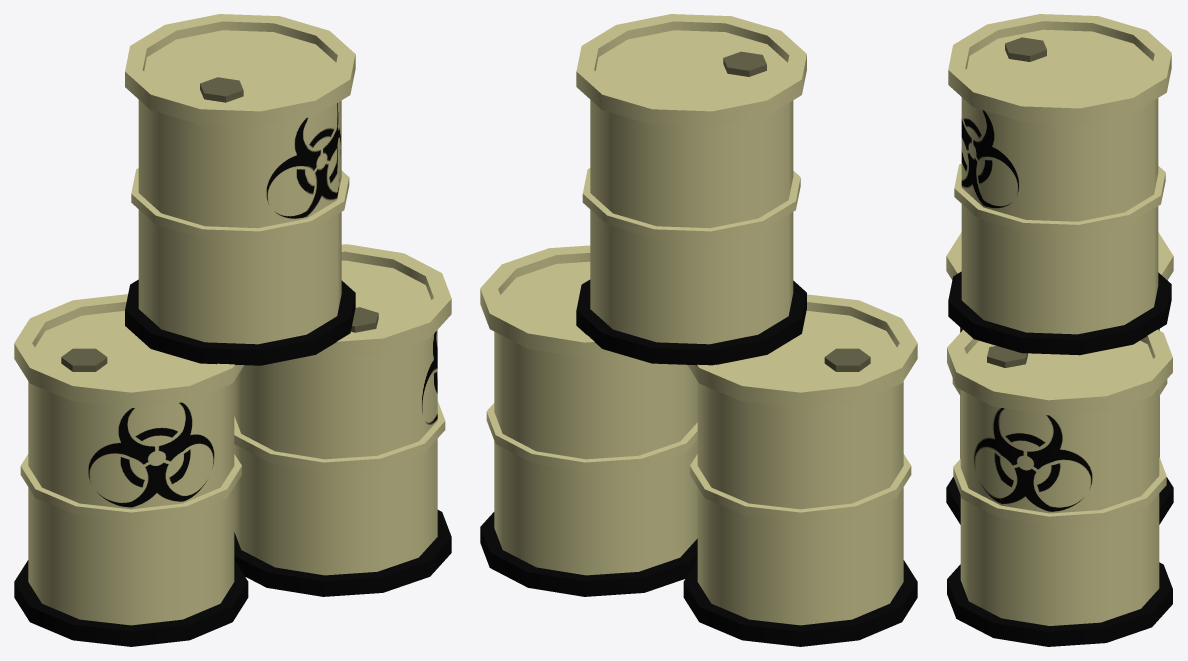
Rendered from barells_3.fbx.
The picture shows the model from 3 angles, left to right: view 1: azimuth 30°, elevation 25°; view 2: azimuth 150°, elevation 25°; view 3: azimuth 270°, elevation 25°; orthographic projection. The views are drawn at different scales.
Visible parts, largest first — view 1: barells_3; view 2: barells_3; view 3: barells_3.
Boxes of the visible parts, <box> form: barells_3: <box>14,14,451,646</box>; barells_3: <box>480,14,917,646</box>; barells_3: <box>946,14,1173,646</box>.
Size of the model in its own units: 239 by 286 by 119.
